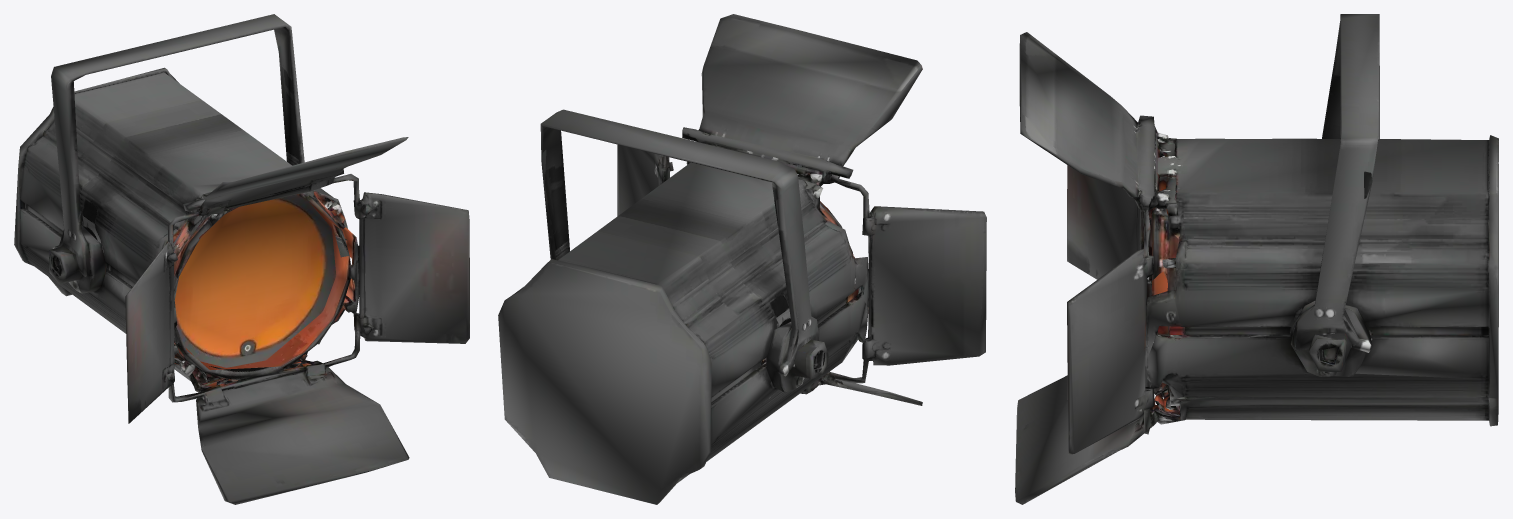
3 views of the same model, side by side, from view 1: azimuth 30°, elevation 25°; view 2: azimuth 150°, elevation 25°; view 3: azimuth 270°, elevation 25° (orthographic). The views are drawn at different scales.
Parts seen in each view (by area): view 1: Mesh1.0; view 2: Mesh1.0; view 3: Mesh1.0.
Part boxes in pixels (bbox=[...]): Mesh1.0: bbox=[14, 14, 469, 504]; Mesh1.0: bbox=[498, 14, 986, 504]; Mesh1.0: bbox=[1015, 14, 1498, 504].
Size of the model in its own units: 1.82 by 1.68 by 1.92.
1 material, 1 textured.
